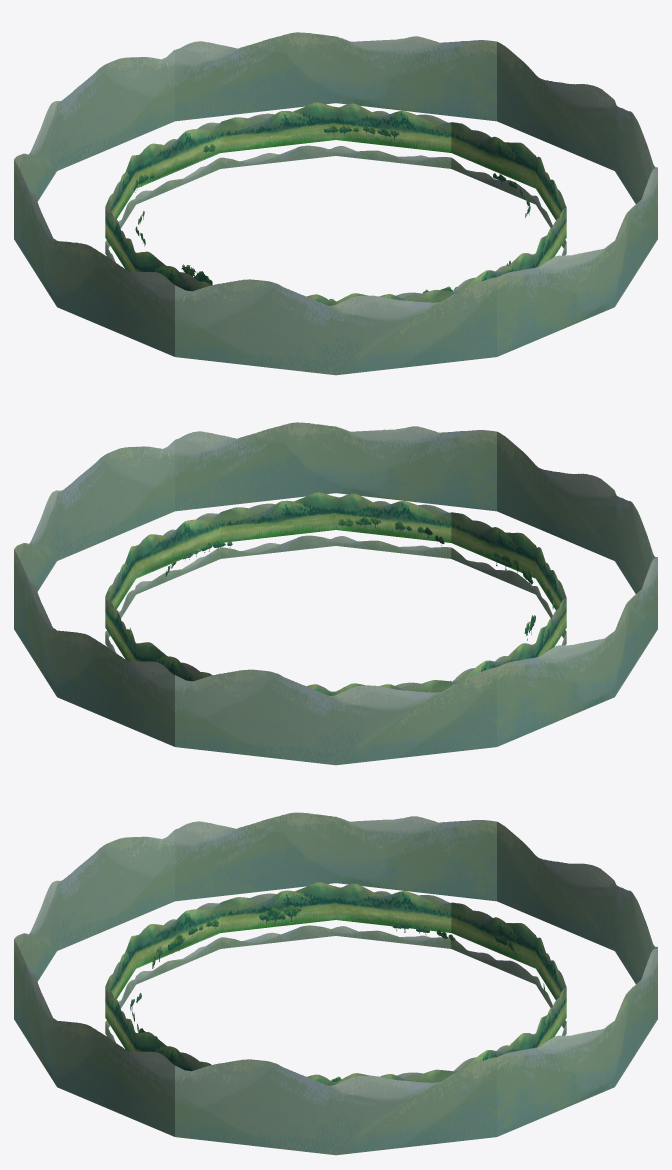
The model's file is KWonderLand_Ver2024_Mountain.fbx.
The picture shows the model from 3 angles, top to bottom: view 1: azimuth 30°, elevation 25°; view 2: azimuth 150°, elevation 25°; view 3: azimuth 270°, elevation 25°; orthographic projection.
Parts seen in each view (by area): view 1: mountain_02, mountain_01, tree_image; view 2: mountain_02, mountain_01, tree_image; view 3: mountain_02, mountain_01, tree_image.
Part boxes in pixels (x1,y1,x2,y2): mountain_02: [14, 32, 657, 375]; mountain_01: [105, 102, 566, 305]; tree_image: [133, 125, 530, 301]; mountain_02: [14, 422, 657, 765]; mountain_01: [105, 492, 566, 695]; tree_image: [130, 517, 555, 681]; mountain_02: [14, 812, 657, 1155]; mountain_01: [105, 882, 566, 1085]; tree_image: [130, 905, 545, 1081].
Bounding box in the file's own units: 22462 × 3978 × 22462.
